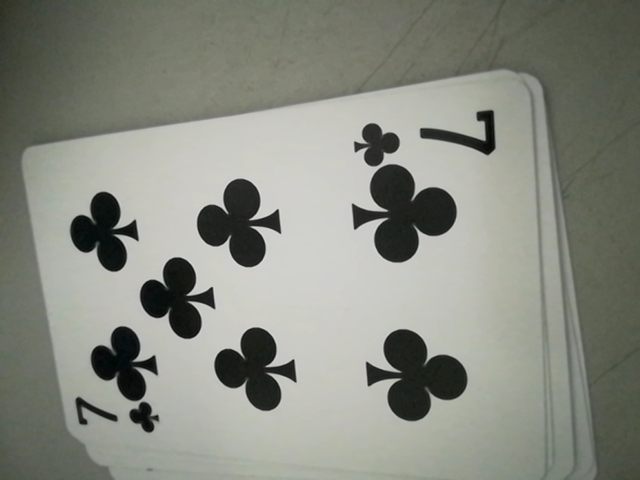mh 7: (345, 99, 504, 168), (69, 395, 161, 444)
